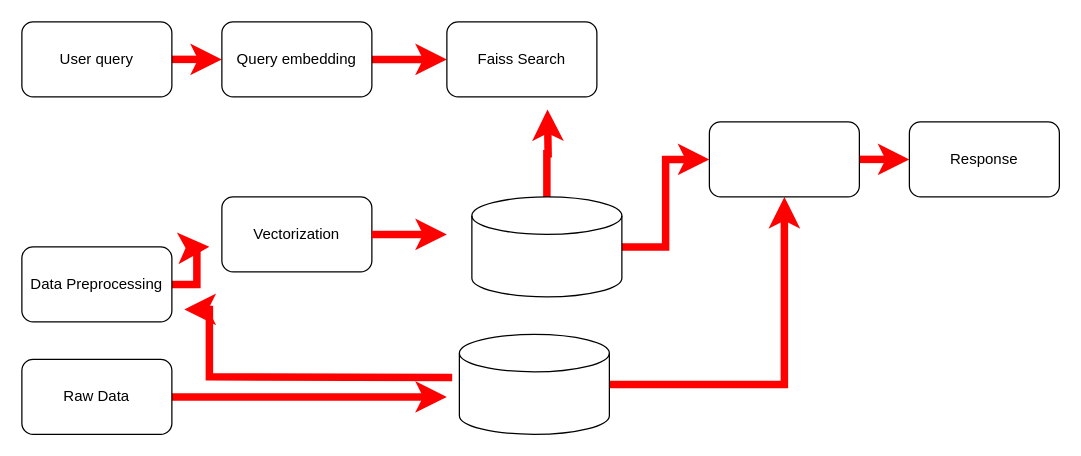
Image size: 1081x456. Some labels were removed from this diagram. The centre of each missing label's shape, as x and y in pixels:
Contextual Retrieval: the point at 783,159
Faiss: the point at 546,246
PostgreSQL: the point at 533,383
